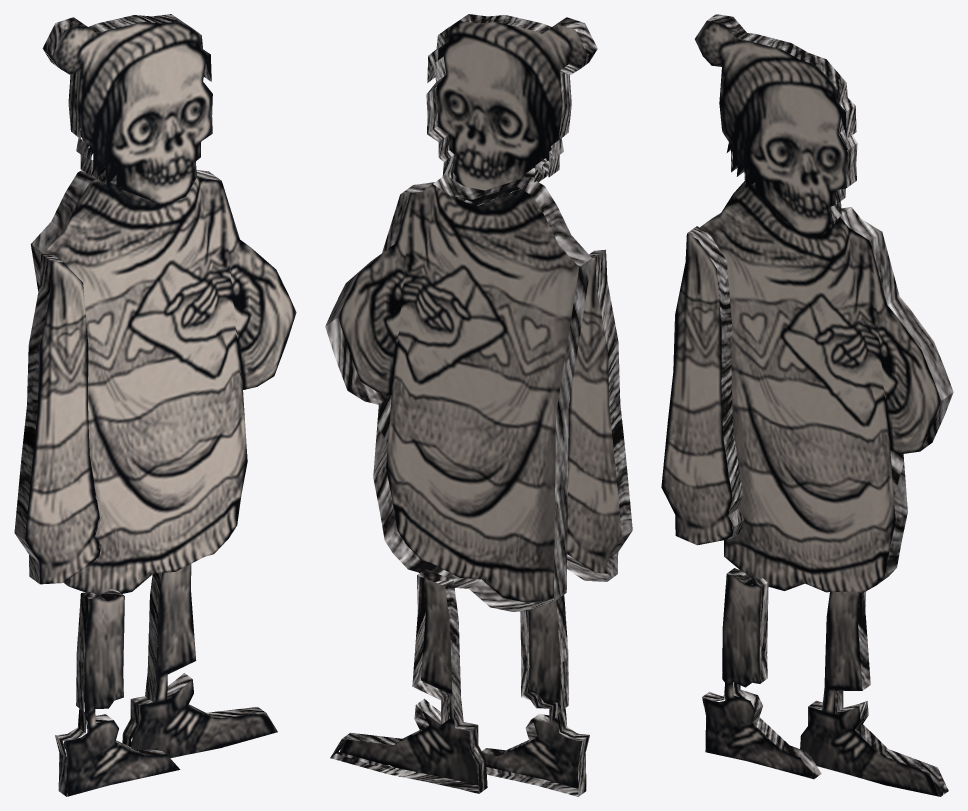
The model's file is skeletboy.fbx.
3 views of the same model, side by side, from view 1: azimuth 30°, elevation 25°; view 2: azimuth 150°, elevation 25°; view 3: azimuth 330°, elevation 25° (orthographic). The views are drawn at different scales.
Parts seen in each view (by area): view 1: body, head, arm, legBack, legFront; view 2: body, head, arm, legBack, legFront; view 3: body, head, arm, legBack, legFront.
Boxes of the visible parts, <box> form: body: <box>30,170,296,595</box>; head: <box>42,14,212,205</box>; arm: <box>14,253,101,584</box>; legBack: <box>122,564,277,758</box>; legFront: <box>55,589,180,796</box>; body: <box>325,174,591,611</box>; head: <box>426,14,597,206</box>; arm: <box>567,249,632,581</box>; legBack: <box>330,569,487,793</box>; legFront: <box>482,595,589,796</box>; body: <box>700,181,953,593</box>; head: <box>695,14,857,235</box>; arm: <box>661,226,744,545</box>; legBack: <box>800,591,948,796</box>; legFront: <box>702,568,821,779</box>.
Size of the model in its own units: 3.04 by 7.96 by 0.5303.
